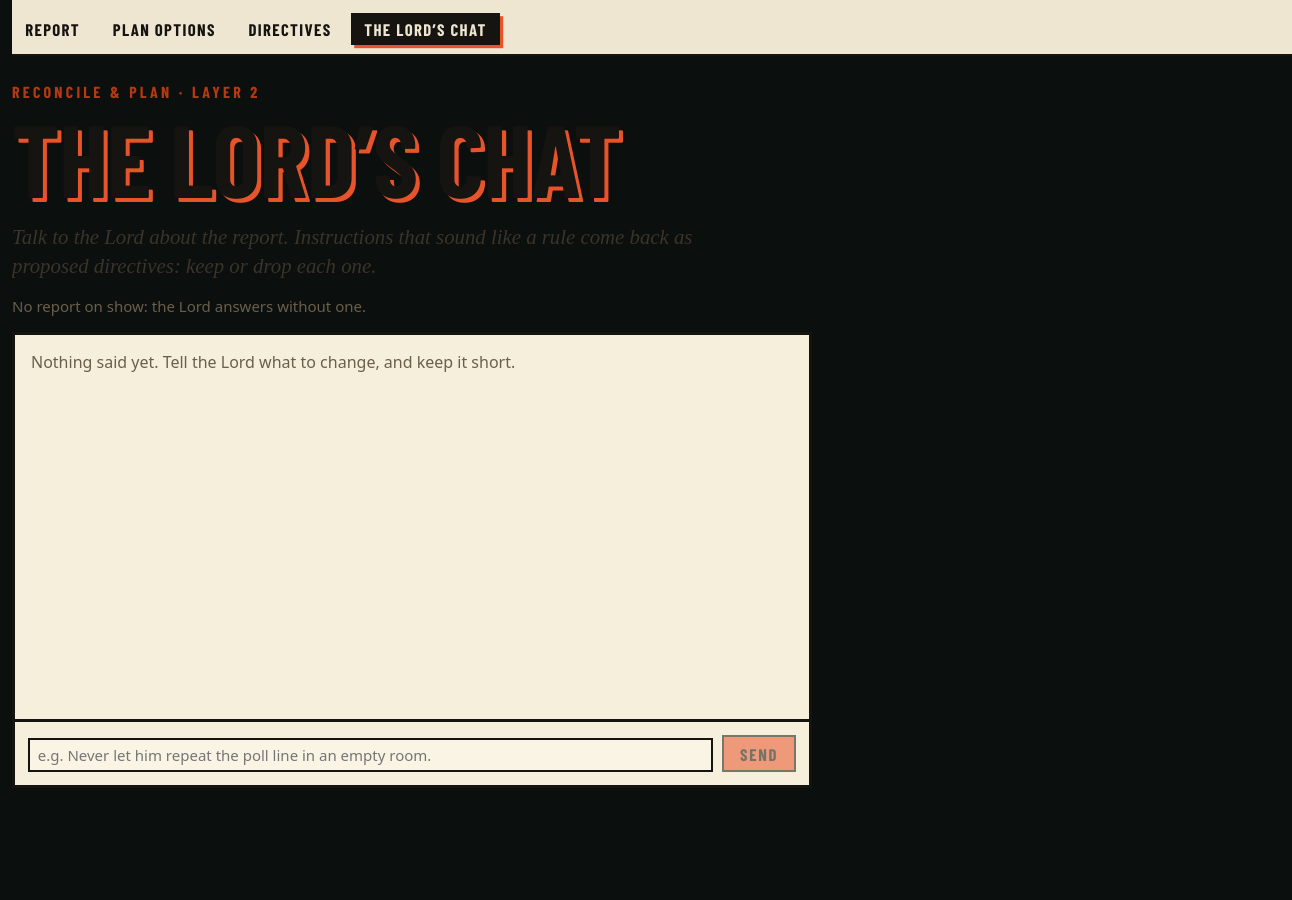
reconcile/chat › shows an undelivered message when the daemon fails
Step 1. Type "Hello" into the field named "Message the Lord" → (370, 755), box [28, 738, 712, 772]
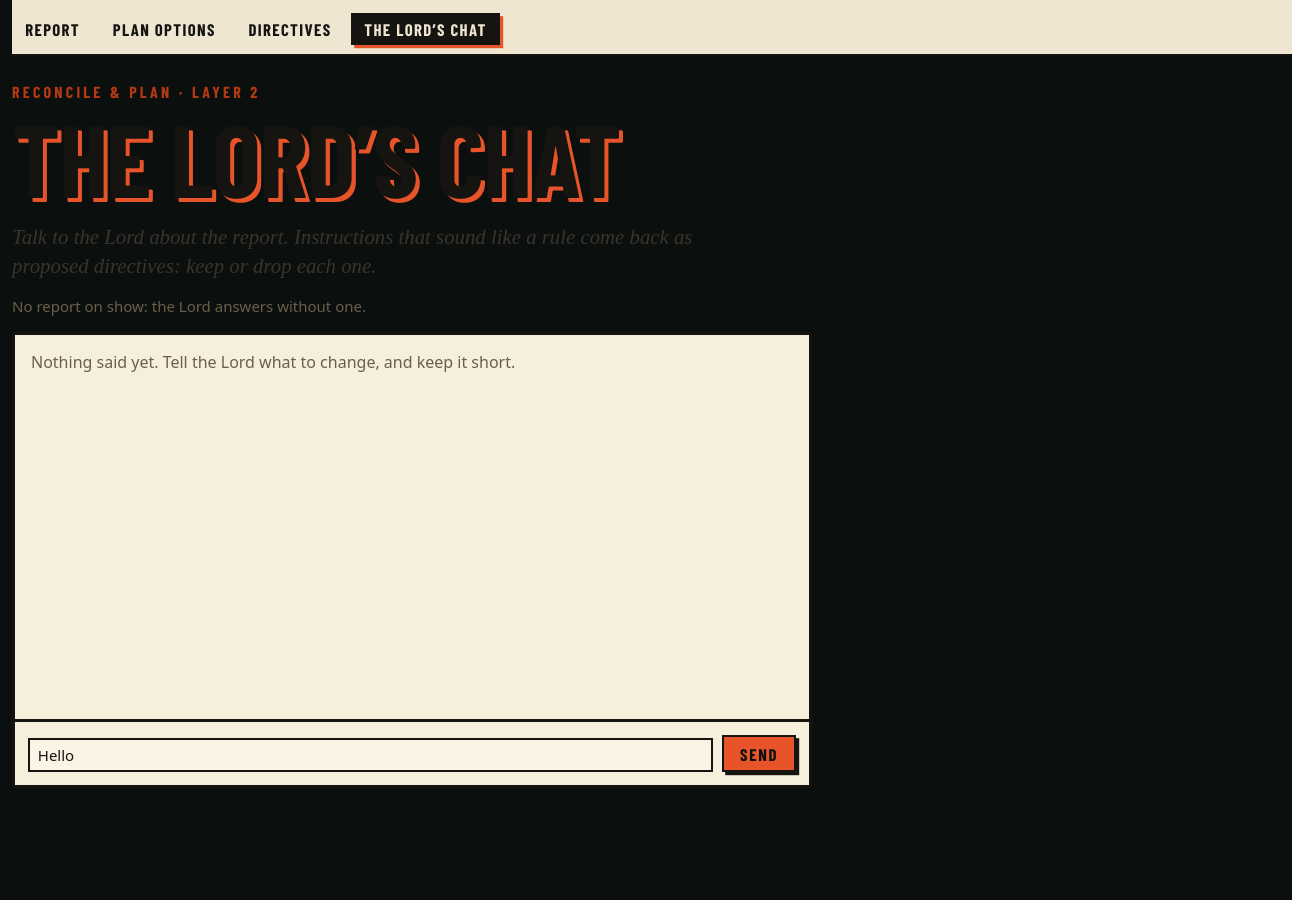
Step 2. Click the button named "Send" → (759, 754), box [722, 735, 796, 772]
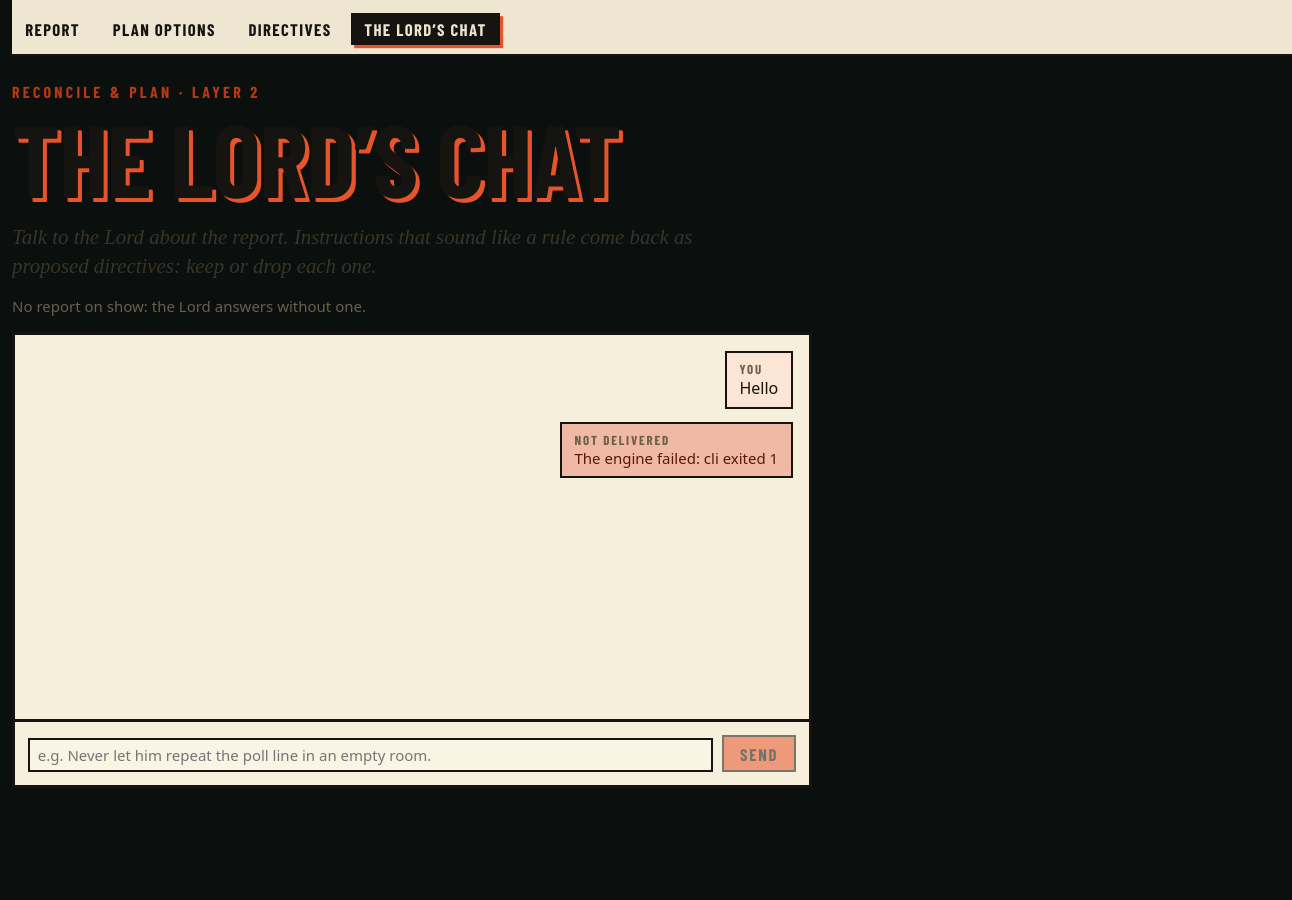
expect the 3rd text "Not delivered" is shown: met, box [574, 432, 670, 448]
expect the text "The engine failed: cli exited 1" is shown: met, box [574, 448, 778, 468]
